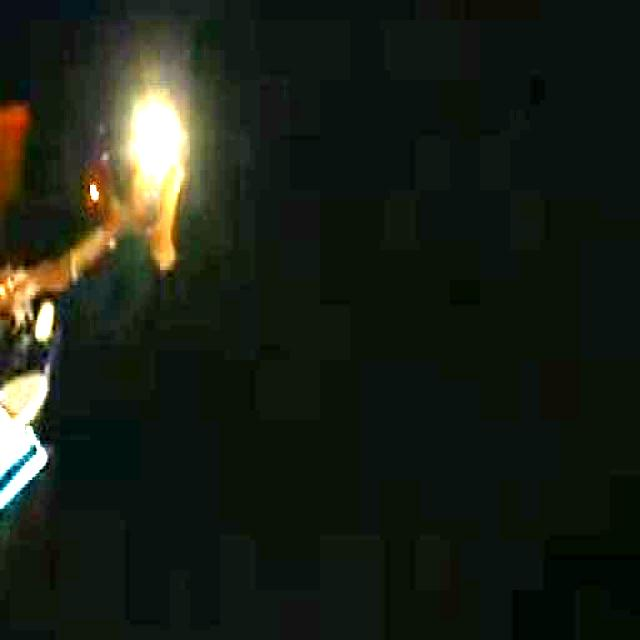drone: (0, 81, 200, 532)
